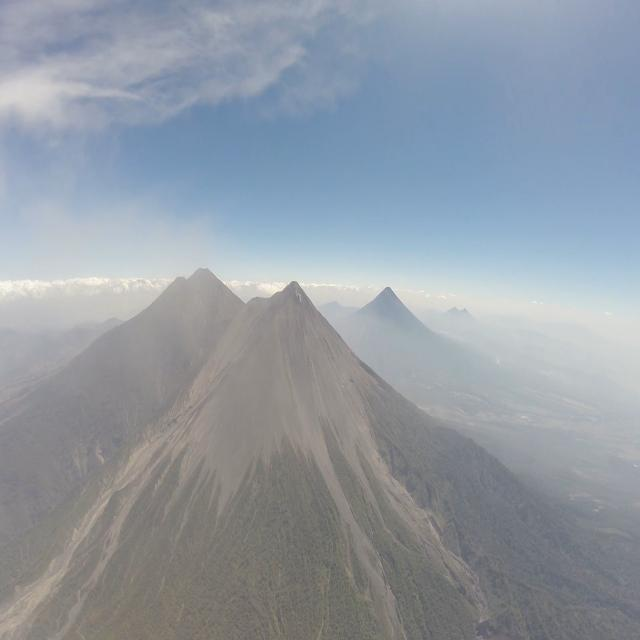Summit: (268, 278, 318, 309)
